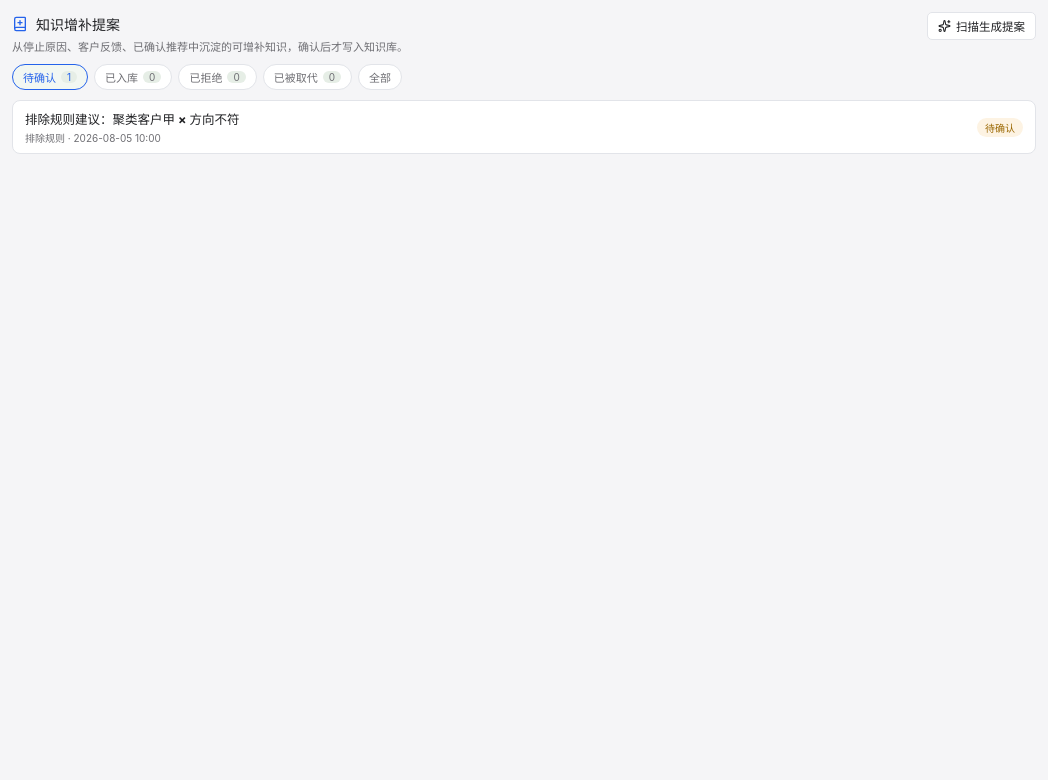
Test case: 知识增补提案（knowledge_proposal） › 决策成功直接采用 POST 提案回执，不等待详情与列表回读
Click the button with aria-label "查看提案：排除规则建议：聚类客户甲 × 方向不符" at (132, 120), box [13,101,1035,153]
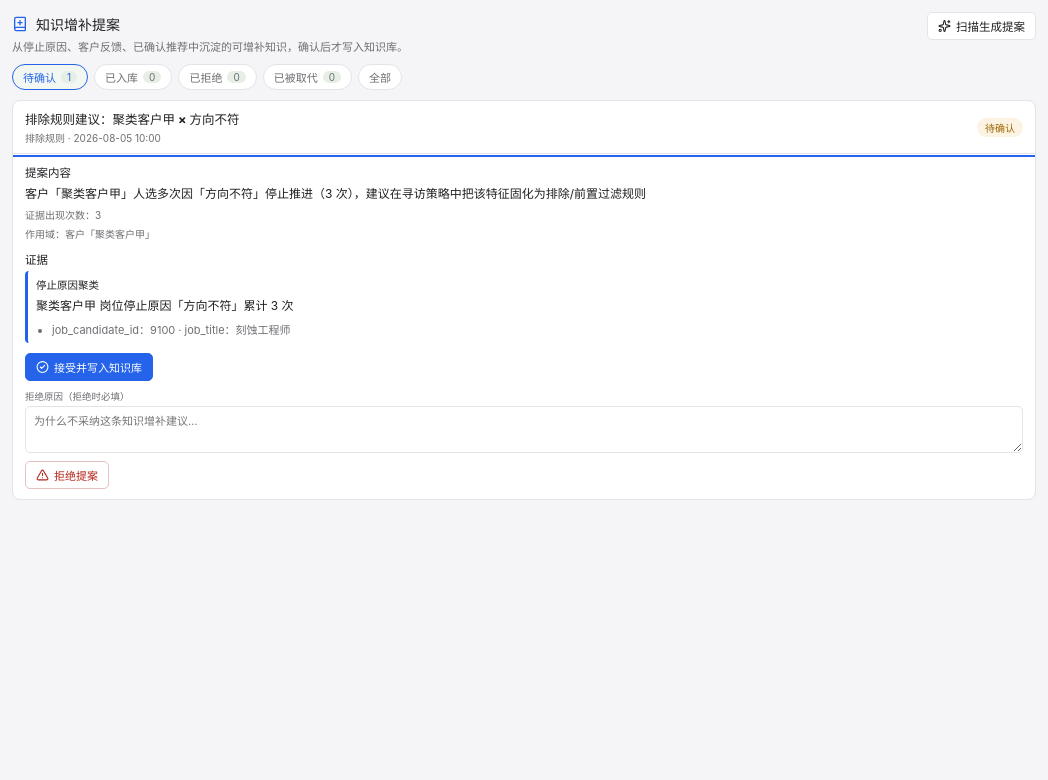
Expected: the heading "提案内容" is shown, [25,166,71,180]
Click the button "接受并写入知识库" at (89, 367), box [25,353,153,381]
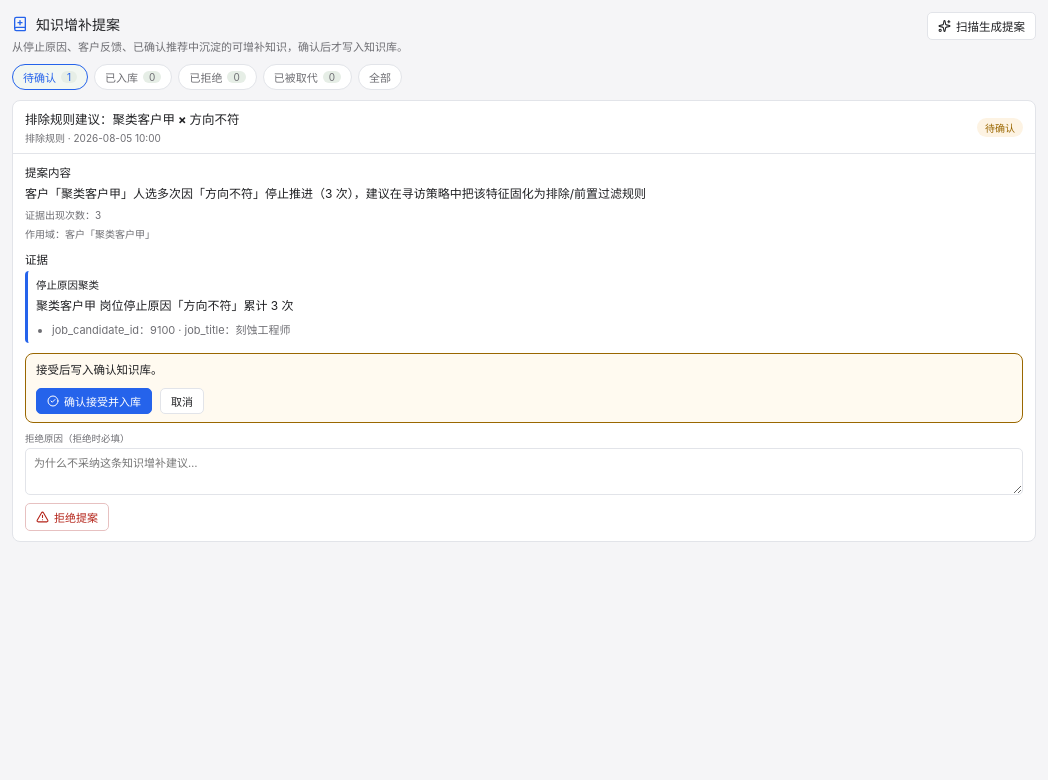
Click the button "确认接受并入库" at (94, 401), box [36,388,152,414]
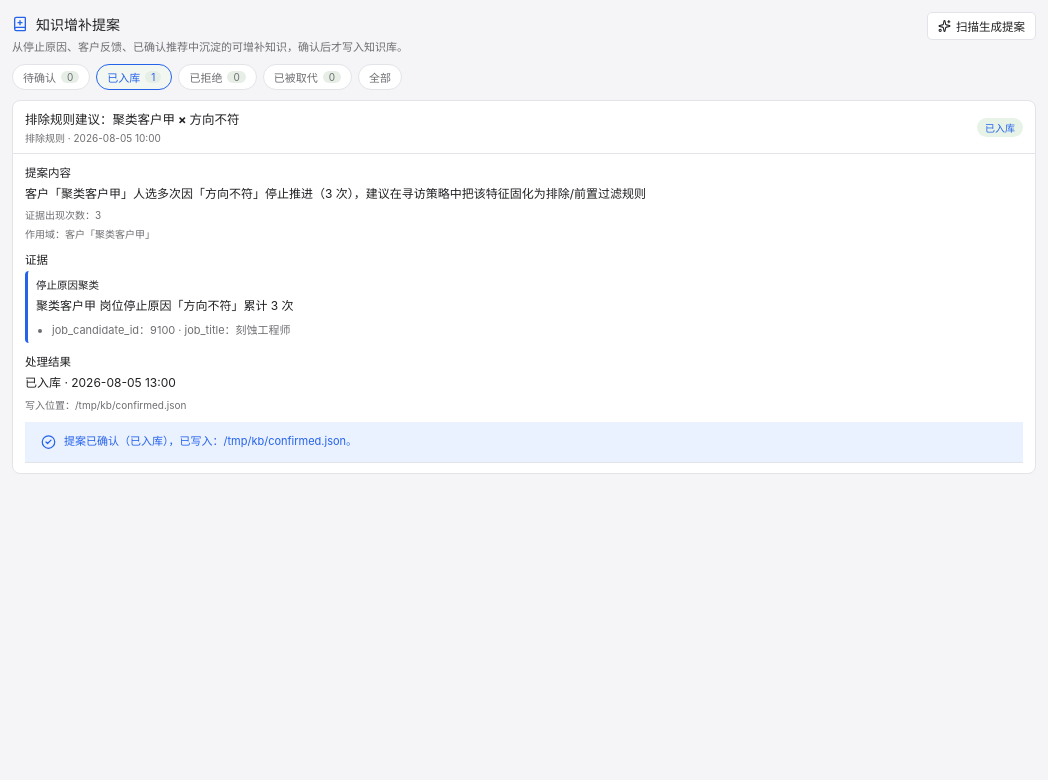
Expected: the text "提案已确认（已入库），已写入：/tmp/kb/confirmed.json。" is shown, [64,433,357,450]
Expected: the heading "处理结果" is shown, [25,355,71,369]
Expected: the text "已入库 · 2026-08-05 13:00" is shown, [25,375,176,390]
